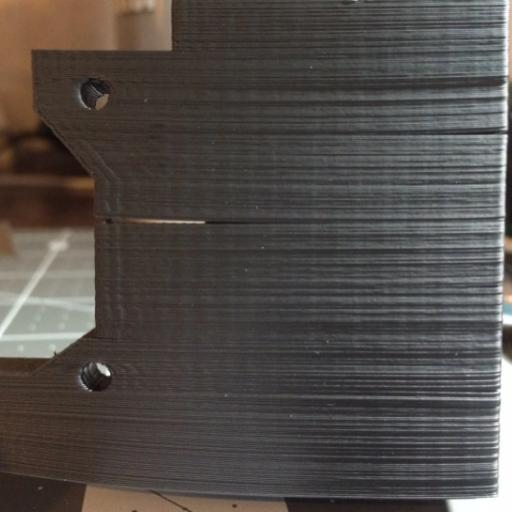cracks: (98, 194, 322, 242)
